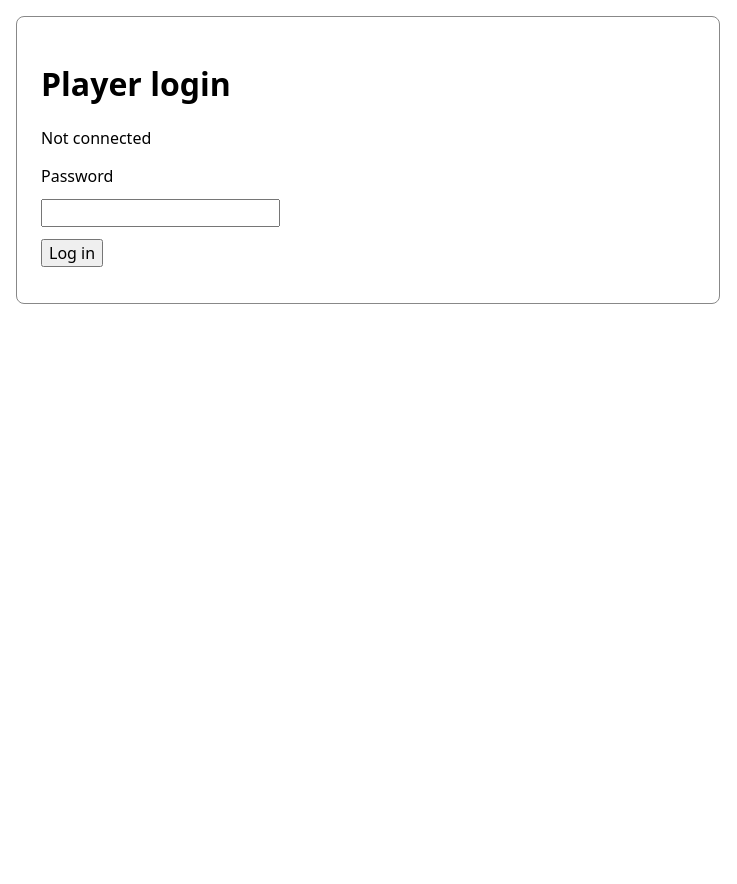
player login and session bootstrap › renders an explicit empty-transcript message and logs out through the player route
In the password field named "password": (160, 213) x1=41 y1=199 x2=280 y2=227, type "never-persist-this"
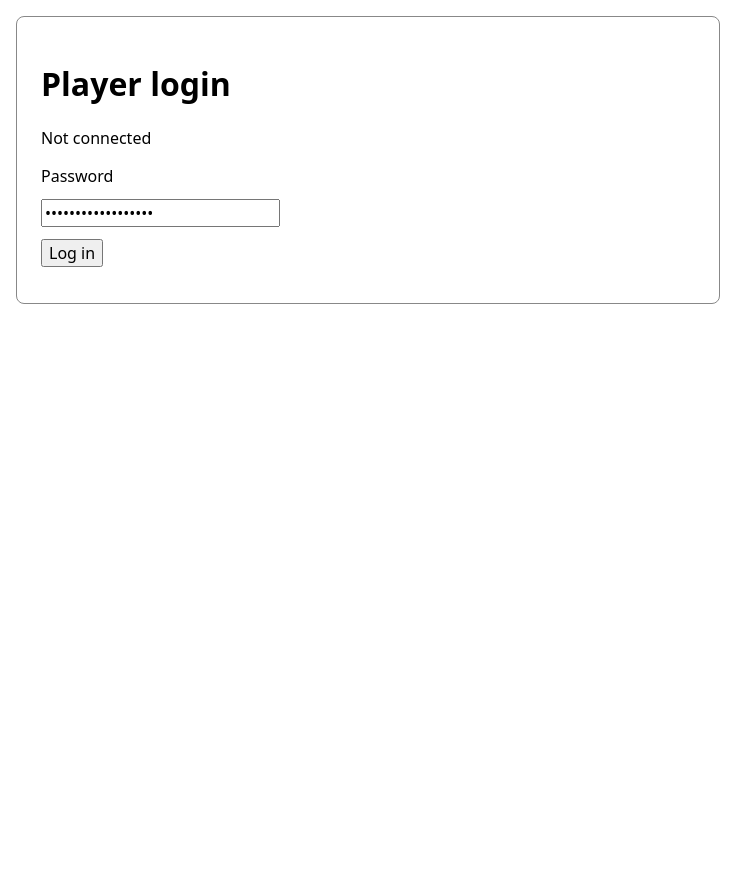
Submit the form, box x1=41 y1=165 x2=280 y2=267
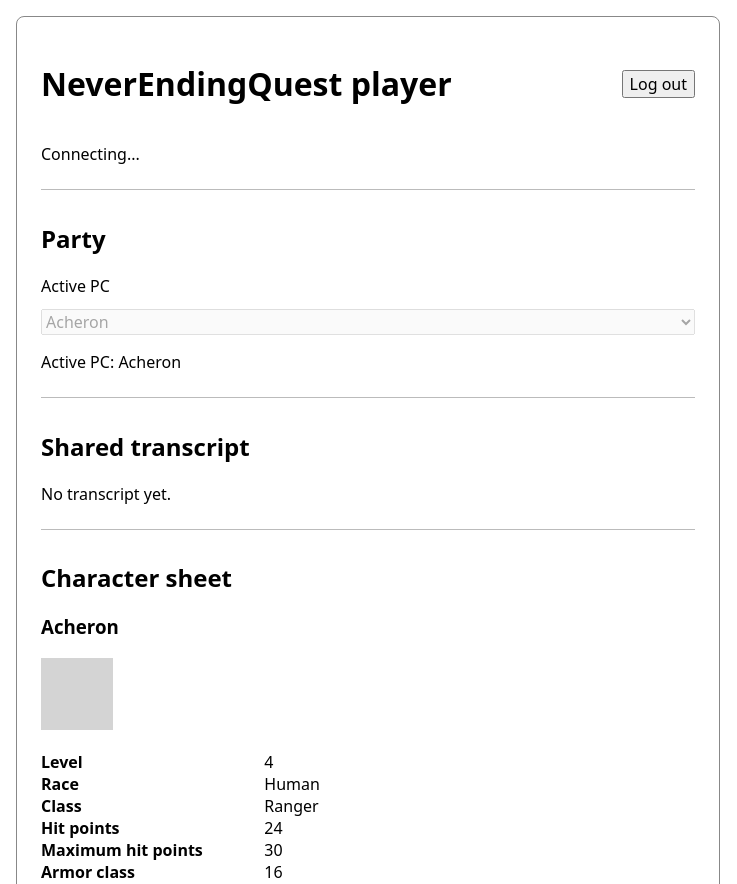
Expected: the text "No transcript yet." is shown, x1=41 y1=482 x2=171 y2=504
Click the button "Log out": (658, 84) x1=622 y1=70 x2=695 y2=98
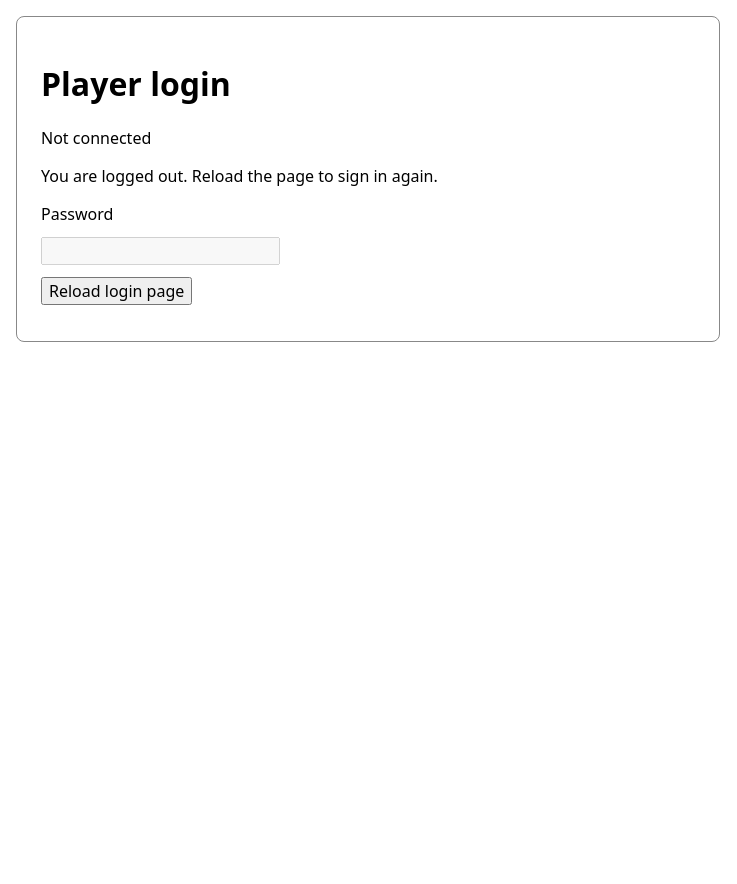
Expected: the text "You are logged out" is shown, x1=41 y1=165 x2=438 y2=187
Expected: the text "Reload the page to sign in again" is shown, x1=41 y1=165 x2=438 y2=187
